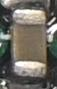Capacitor: (12, 9, 47, 78)
